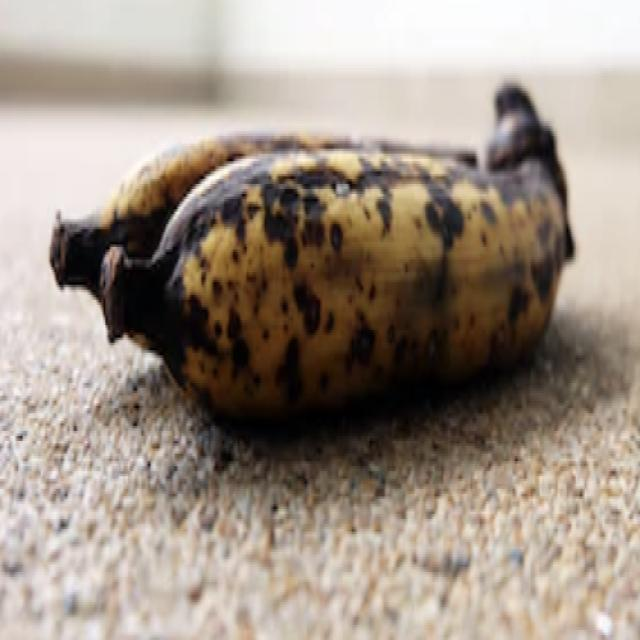Rotten: (39, 68, 602, 441)
